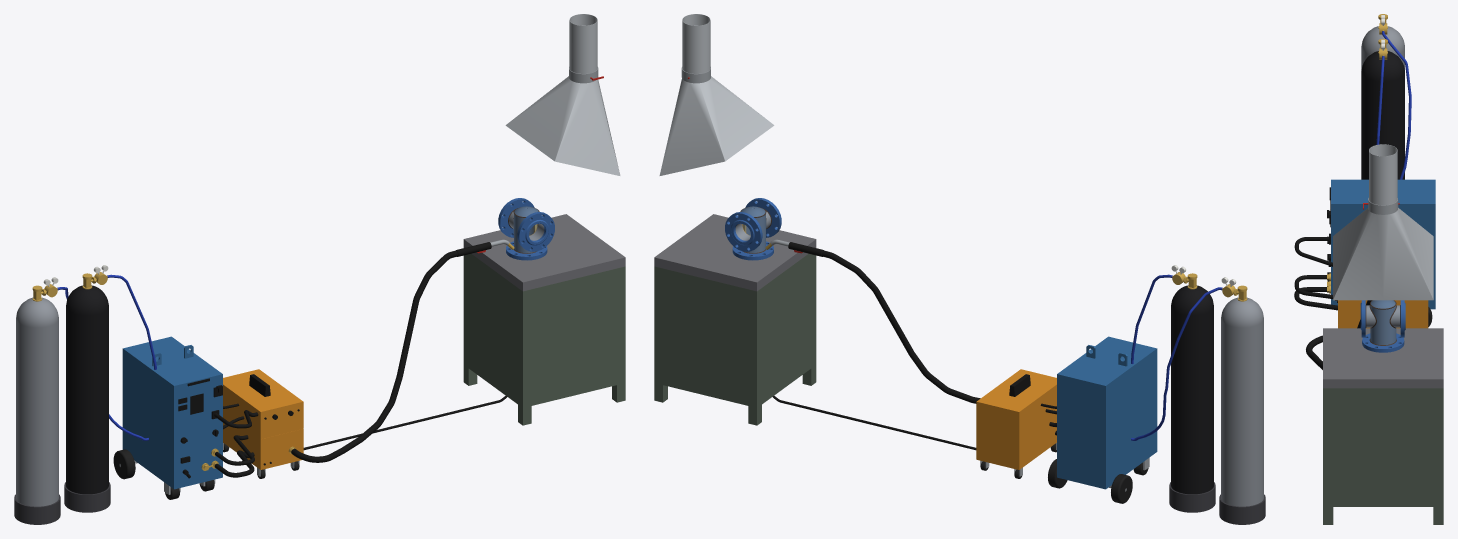
File: oborudovanie.glb
The picture shows the model from 3 angles, left to right: view 1: azimuth 30°, elevation 25°; view 2: azimuth 150°, elevation 25°; view 3: azimuth 270°, elevation 25°; orthographic projection.
Parts seen in each view (by area): view 1: poz6_stol_tumba, poz2_istochnik_korpus, poz1_ballon_1_korpus, poz1_ballon_2_korpus, poz7_vozduhopriemnik, poz6_stol_stoleshnica, poz3_pdg_korpus, poz4_gorelka_kabel_shlang, poz9_vozduhovod, poz5_izdelie_03_flanec_patrubka_L, poz1_ballon_1_bashmak, poz1_ballon_2_bashmak (+1 smaller); view 2: poz6_stol_tumba, poz2_istochnik_korpus, poz1_ballon_1_korpus, poz1_ballon_2_korpus, poz7_vozduhopriemnik, poz3_pdg_korpus, poz6_stol_stoleshnica, poz9_vozduhovod, poz4_gorelka_kabel_shlang, poz5_izdelie_03_flanec_patrubka_R, poz1_ballon_1_bashmak, poz1_ballon_2_bashmak; view 3: poz6_stol_tumba, poz7_vozduhopriemnik, poz6_stol_stoleshnica, poz1_ballon_2_korpus, poz2_istochnik_korpus, poz9_vozduhovod, poz3_pdg_korpus, poz1_ballon_1_korpus, poz5_izdelie_02_stakan, shlang_gaz_1, poz5_izdelie_04_flanec_stakana, kabel_1 (+10 smaller).
Boxes of the visible parts, <box> form: poz6_stol_tumba: <box>463,254,625,407</box>; poz2_istochnik_korpus: <box>122,336,222,489</box>; poz1_ballon_1_korpus: <box>16,297,58,506</box>; poz1_ballon_2_korpus: <box>66,285,108,494</box>; poz7_vozduhopriemnik: <box>505,76,620,175</box>; poz6_stol_stoleshnica: <box>463,214,625,291</box>; poz3_pdg_korpus: <box>223,369,303,469</box>; poz4_gorelka_kabel_shlang: <box>291,250,457,462</box>; poz9_vozduhovod: <box>569,14,597,73</box>; poz5_izdelie_03_flanec_patrubka_L: <box>517,212,554,251</box>; poz1_ballon_1_bashmak: <box>14,494,60,524</box>; poz1_ballon_2_bashmak: <box>64,482,110,512</box>; poz6_stol_tumba: <box>654,254,816,407</box>; poz2_istochnik_korpus: <box>1057,336,1157,489</box>; poz1_ballon_1_korpus: <box>1221,297,1263,506</box>; poz1_ballon_2_korpus: <box>1171,285,1213,494</box>; poz7_vozduhopriemnik: <box>659,76,774,175</box>; poz3_pdg_korpus: <box>976,369,1056,469</box>; poz6_stol_stoleshnica: <box>654,214,816,291</box>; poz9_vozduhovod: <box>682,14,710,73</box>; poz4_gorelka_kabel_shlang: <box>822,250,980,403</box>; poz5_izdelie_03_flanec_patrubka_R: <box>725,212,762,251</box>; poz1_ballon_1_bashmak: <box>1219,494,1265,524</box>; poz1_ballon_2_bashmak: <box>1169,482,1215,512</box>; poz6_stol_tumba: <box>1323,388,1443,506</box>; poz7_vozduhopriemnik: <box>1333,208,1433,300</box>; poz6_stol_stoleshnica: <box>1323,328,1443,388</box>; poz1_ballon_2_korpus: <box>1361,51,1404,179</box>; poz2_istochnik_korpus: <box>1331,179,1435,309</box>; poz9_vozduhovod: <box>1369,144,1397,205</box>; poz3_pdg_korpus: <box>1338,300,1428,328</box>; poz1_ballon_1_korpus: <box>1361,26,1404,70</box>; poz5_izdelie_02_stakan: <box>1370,305,1396,344</box>; shlang_gaz_1: <box>1382,31,1411,179</box>; poz5_izdelie_04_flanec_stakana: <box>1362,333,1404,352</box>; kabel_1: <box>1294,287,1337,310</box>.
Bounding box in the file's own units: 3384 × 2022 × 742.
